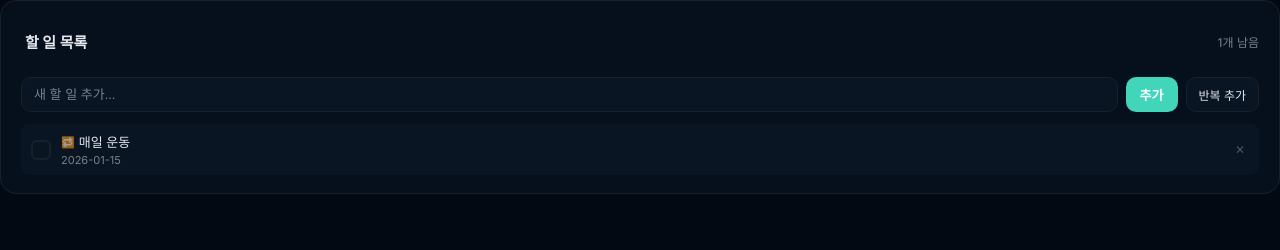
Test: TodoWidget - 반복 기능 › 반복 할 일 삭제 버튼 클릭 시 삭제 확인 선택지를 보여준다
Step 1. Click the button named "삭제" → (1240, 150), box [1231,138,1249,160]
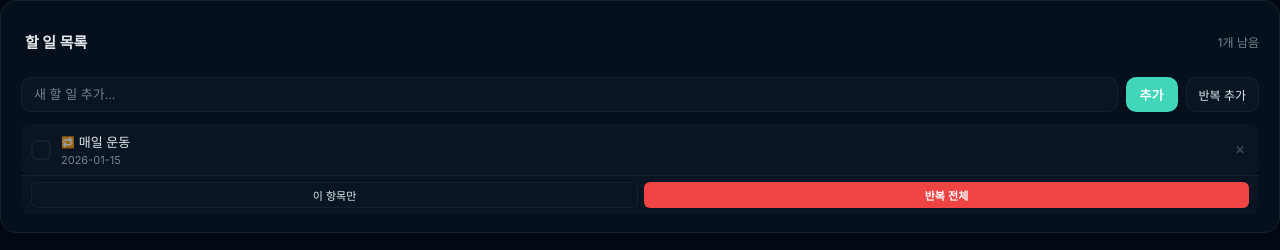
Expected: the button "이 항목만" is shown, [31,182,638,208]
Expected: the button "반복 전체" is shown, [644,182,1249,208]
